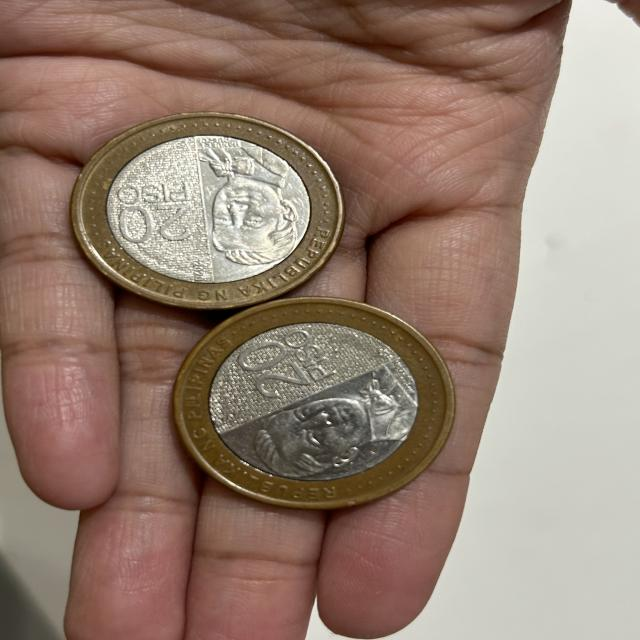20_New_Front: (230, 327, 342, 400), (105, 182, 192, 246)
